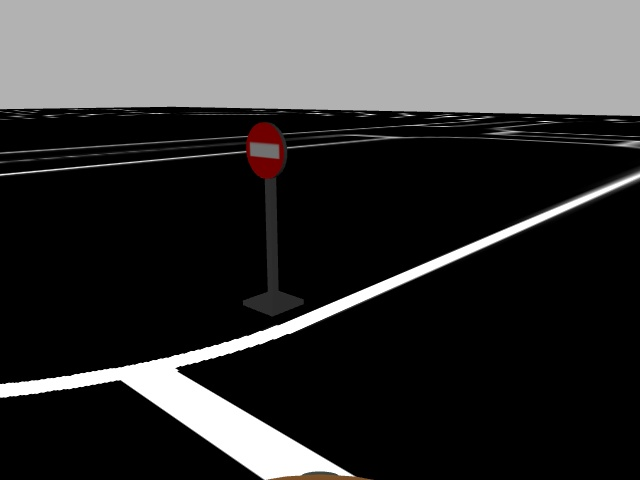prohibited: (242, 121, 290, 181)
